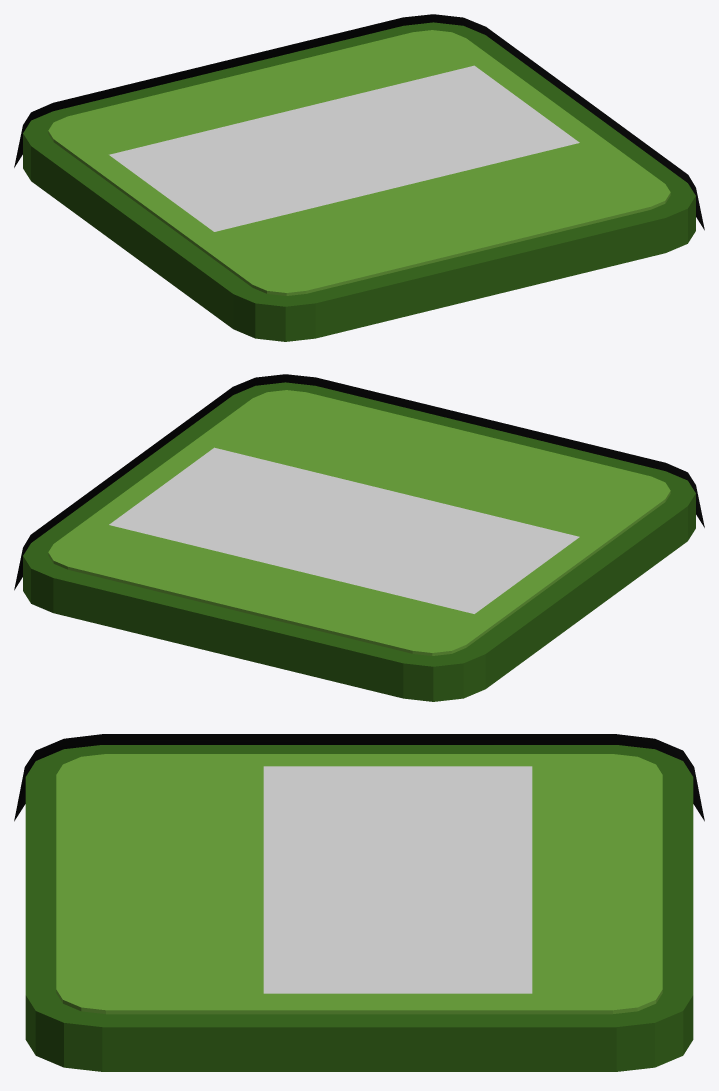
Rendered from BR_Feld_Start.glb.
The picture shows the model from 3 angles, top to bottom: view 1: azimuth 30°, elevation 25°; view 2: azimuth 150°, elevation 25°; view 3: azimuth 270°, elevation 25°; orthographic projection. The views are drawn at different scales.
Parts seen in each view (by area): view 1: BR_Feld_Start_Mesh, BR_Feld_Start_Outline; view 2: BR_Feld_Start_Mesh, BR_Feld_Start_Outline; view 3: BR_Feld_Start_Mesh, BR_Feld_Start_Outline.
Boxes of the visible parts, x1,y1,x2,y2 form: BR_Feld_Start_Mesh: [23, 22, 695, 341]; BR_Feld_Start_Outline: [14, 14, 704, 230]; BR_Feld_Start_Mesh: [23, 382, 695, 701]; BR_Feld_Start_Outline: [14, 374, 704, 590]; BR_Feld_Start_Mesh: [25, 745, 693, 1071]; BR_Feld_Start_Outline: [14, 734, 704, 821].
Bounding box in the file's own units: 1.8 × 0.1588 × 1.8.
